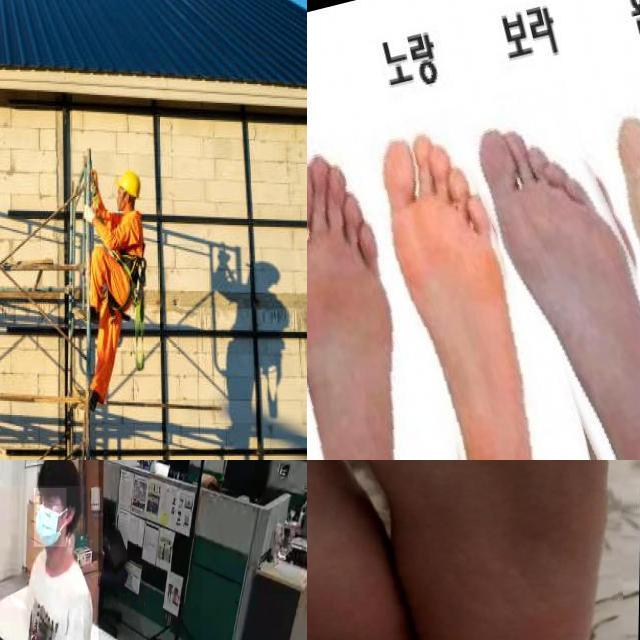Barefoots: (359, 105, 584, 460), (465, 73, 640, 460), (307, 119, 459, 460), (364, 460, 606, 640), (307, 460, 419, 640)
Harness: (100, 211, 148, 369)
face_mask: (34, 488, 66, 547)
head_nohelmet: (37, 460, 81, 487)
person: (0, 460, 99, 640)
